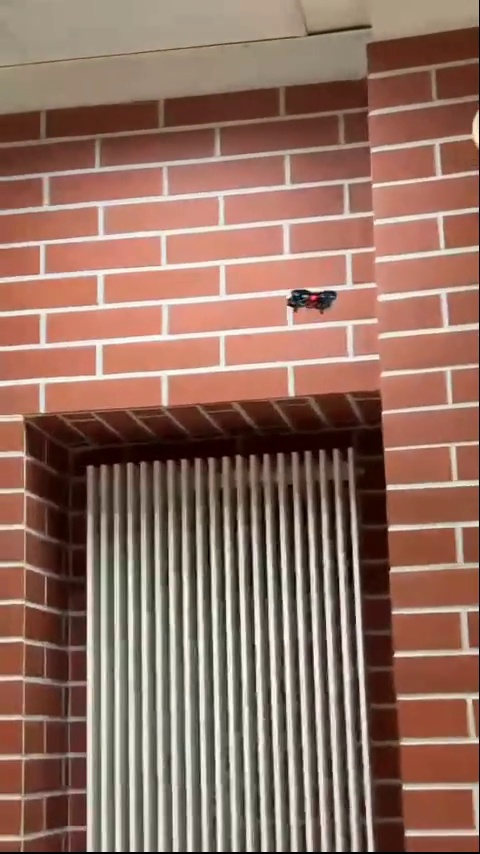drone: (288, 284, 341, 317)
